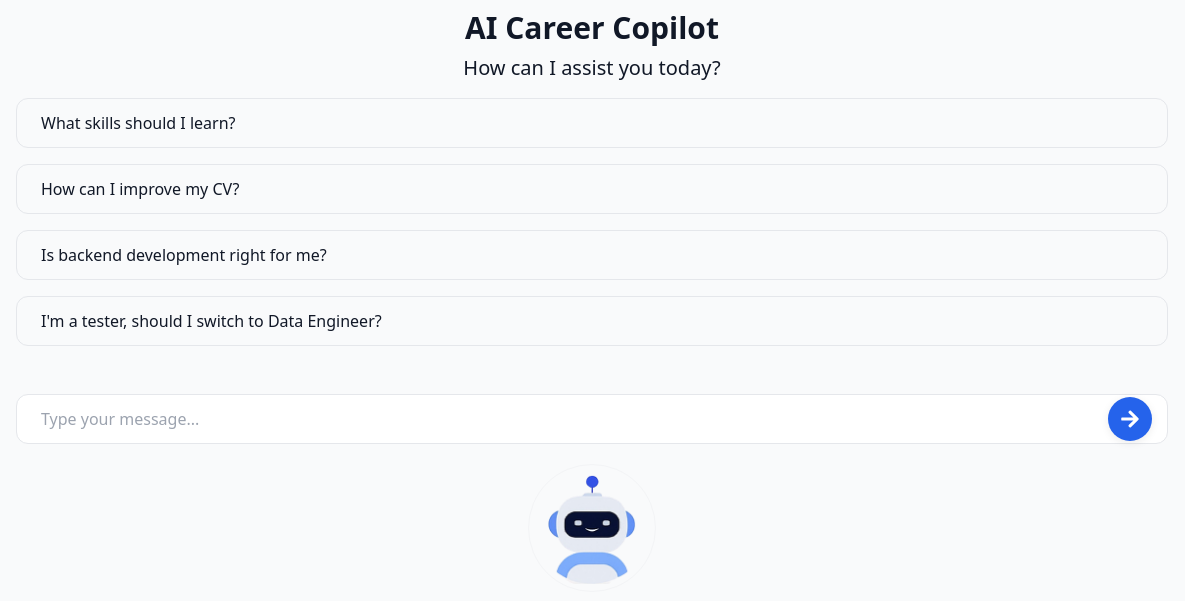
Test case: Assistant component › shows suggestions and allows sending a suggestion
Click the button "What skills should I learn?" at point(138, 123), box [16,98,1168,148]
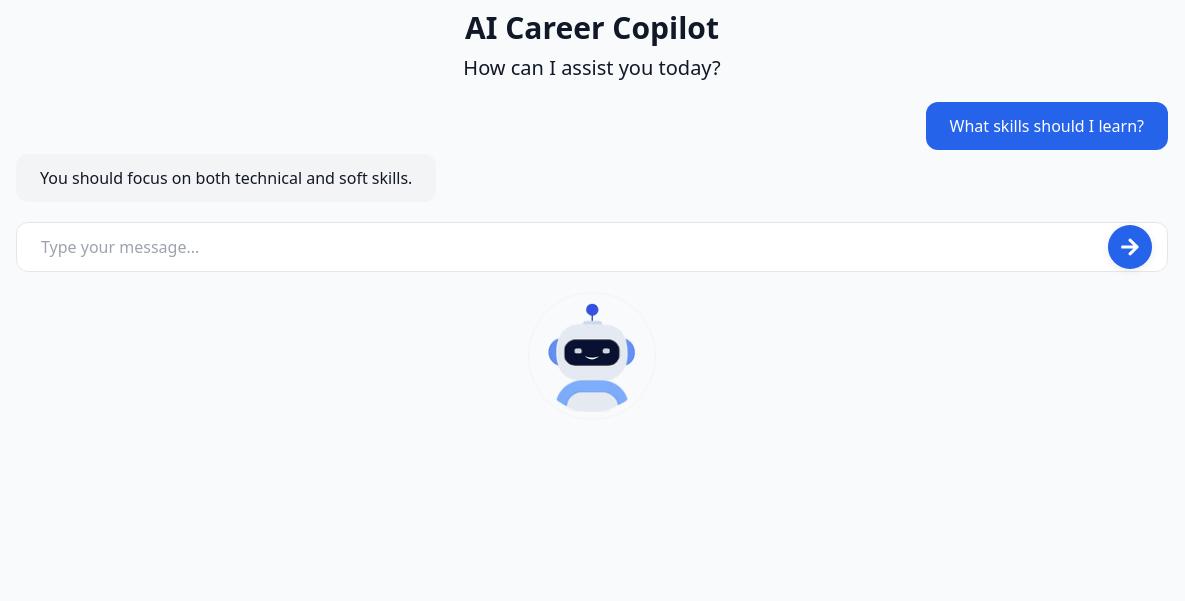
expect the text "You should focus on both technical and soft skills." is shown: met, box [16,154,436,202]
